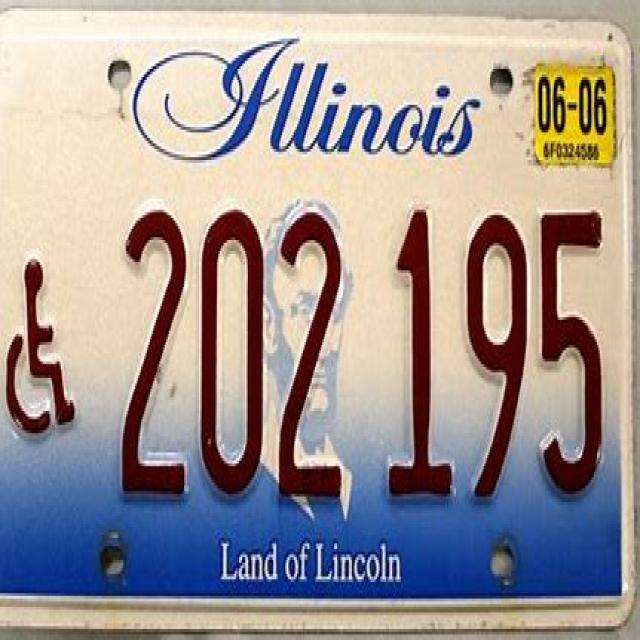car-handicap-placard: (4, 255, 78, 442)
